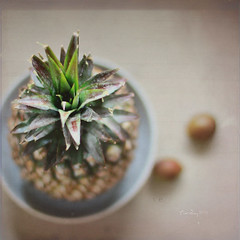Pineapple: (7, 27, 140, 204)
